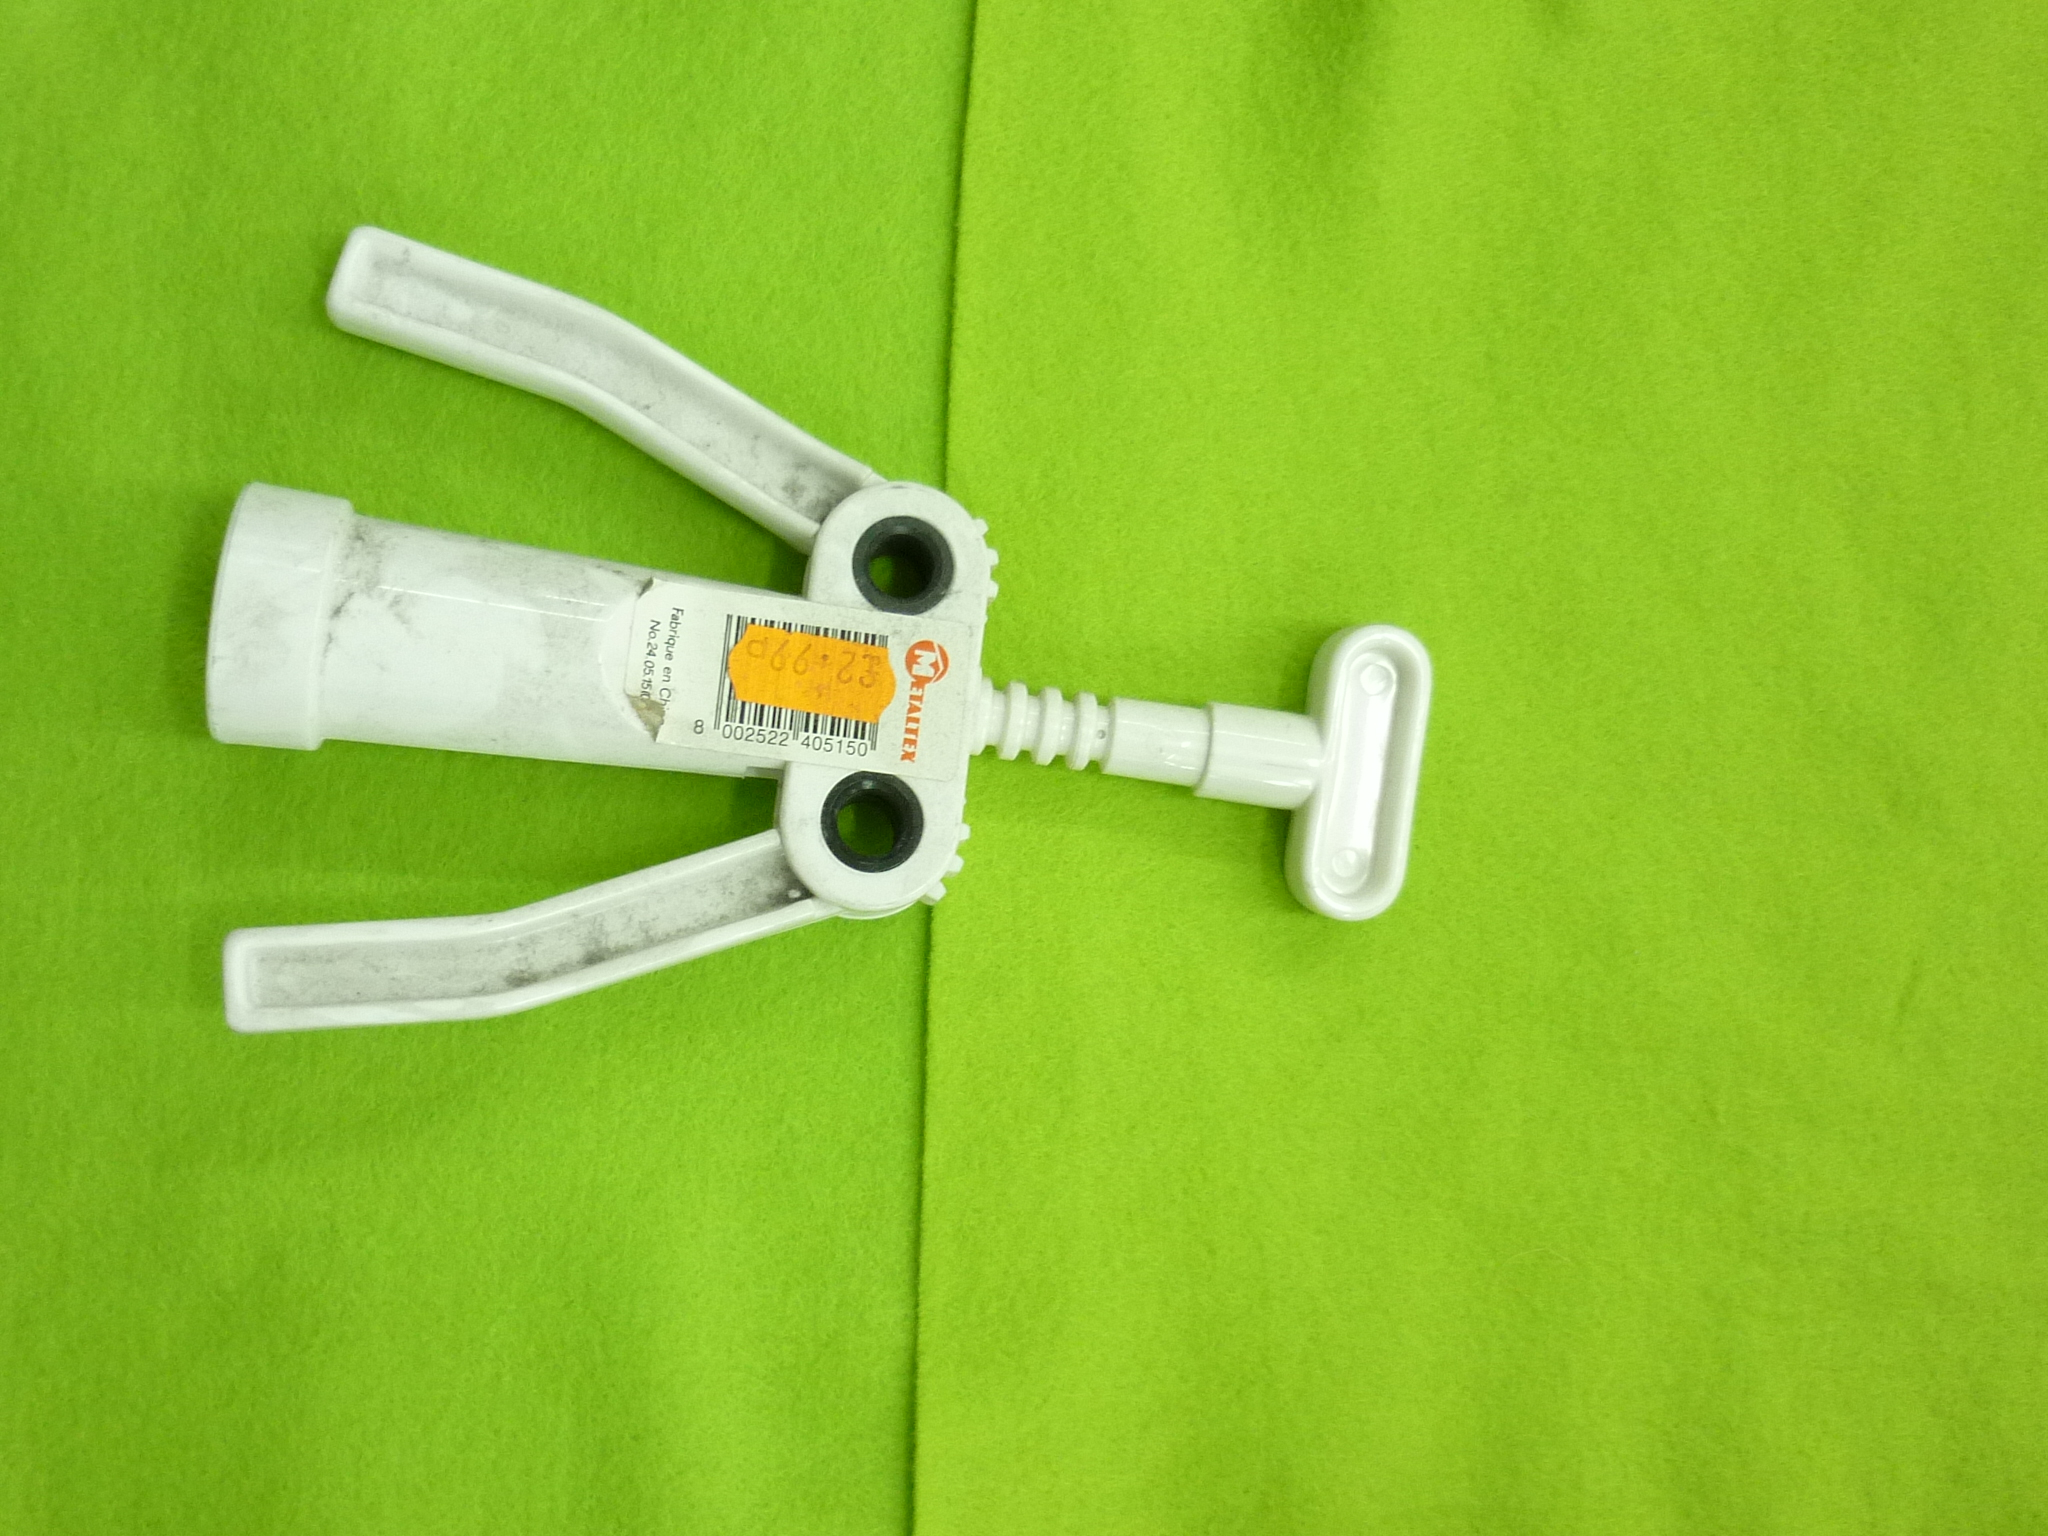bottleopener: (200, 224, 1435, 1034)
